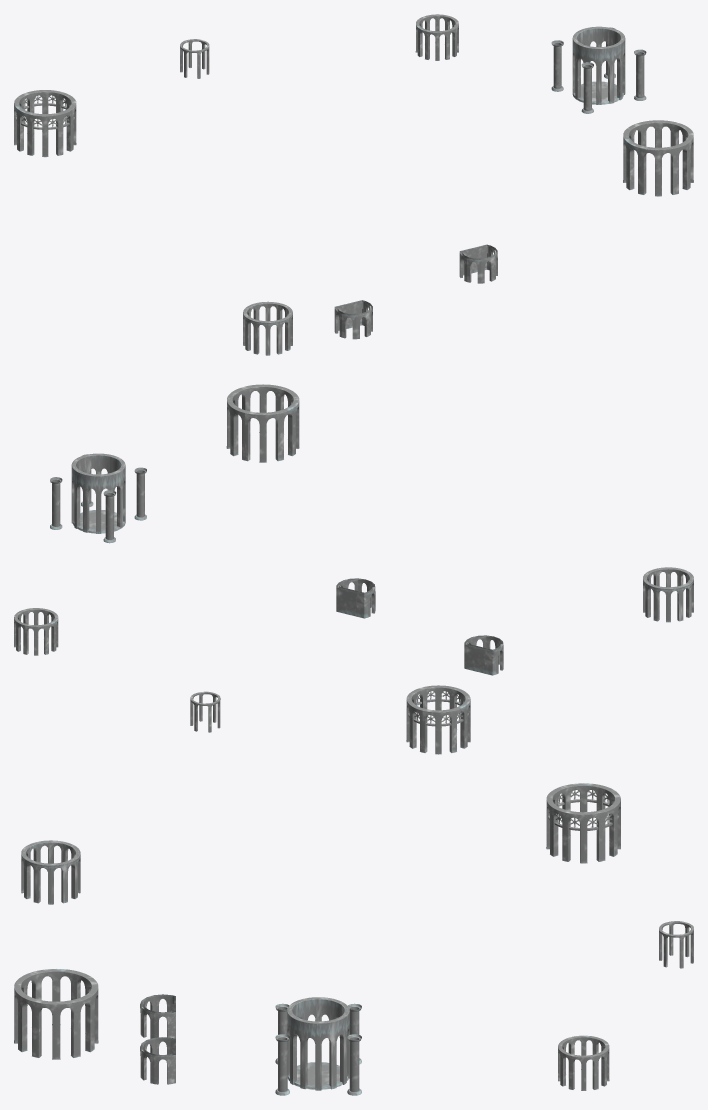
Rendered from field_winter_archpillar.fbx.
3 views of the same model, one above another, from view 1: azimuth 30°, elevation 25°; view 2: azimuth 150°, elevation 25°; view 3: azimuth 270°, elevation 25° (orthographic). The views are drawn at different scales.
Parts seen in each view (by area): view 1: field_winter_archpillar; view 2: field_winter_archpillar; view 3: field_winter_archpillar.
Boxes of the visible parts, x1=… form: field_winter_archpillar: x1=14, y1=14, x2=693, y2=355; field_winter_archpillar: x1=14, y1=384, x2=693, y2=754; field_winter_archpillar: x1=14, y1=783, x2=693, y2=1095.
Size of the model in its own units: 5032 by 1632 by 4958.
1 material, 1 textured.
